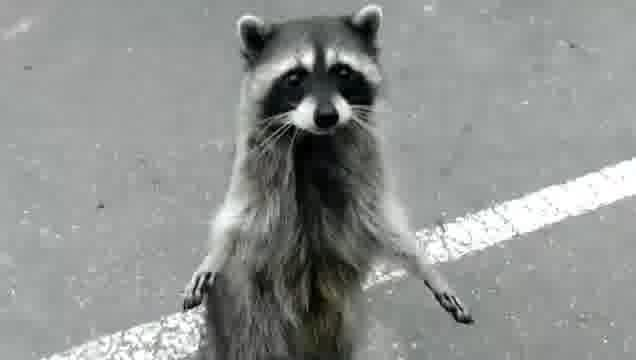raccoon: (174, 3, 481, 360)
